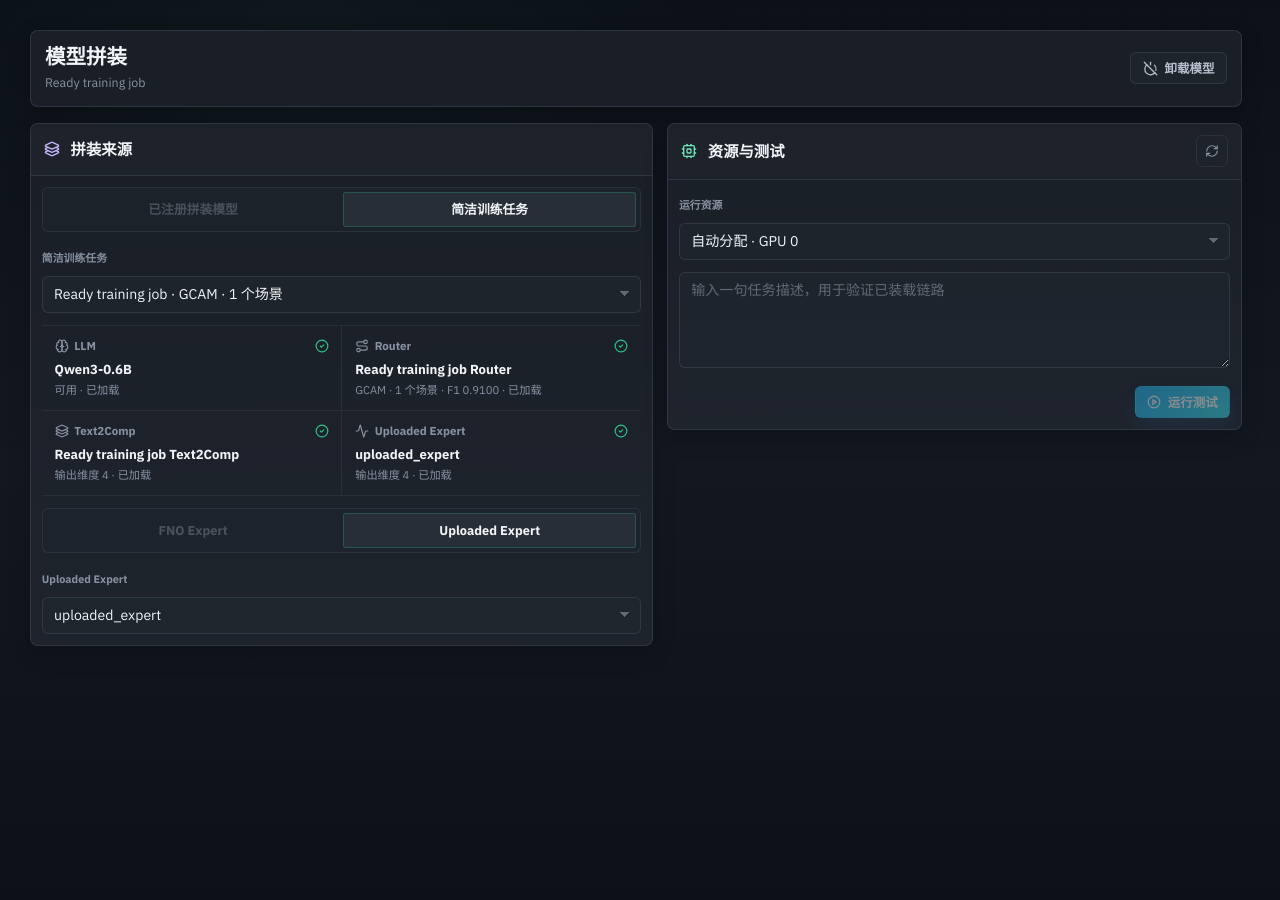
it: TrainingSimpleAssemblyPage › renders diff-sorp vector results as a conversational summary
The width and height of the screenshot is (1280, 900).
Expected: the dropdown labelled "简洁训练任务" is shown, x1=42 y1=276 x2=641 y2=313
In the text box: (955, 320) x1=679 y1=272 x2=1230 y2=368, type "请预测 diff-sorp 下一时间步。"
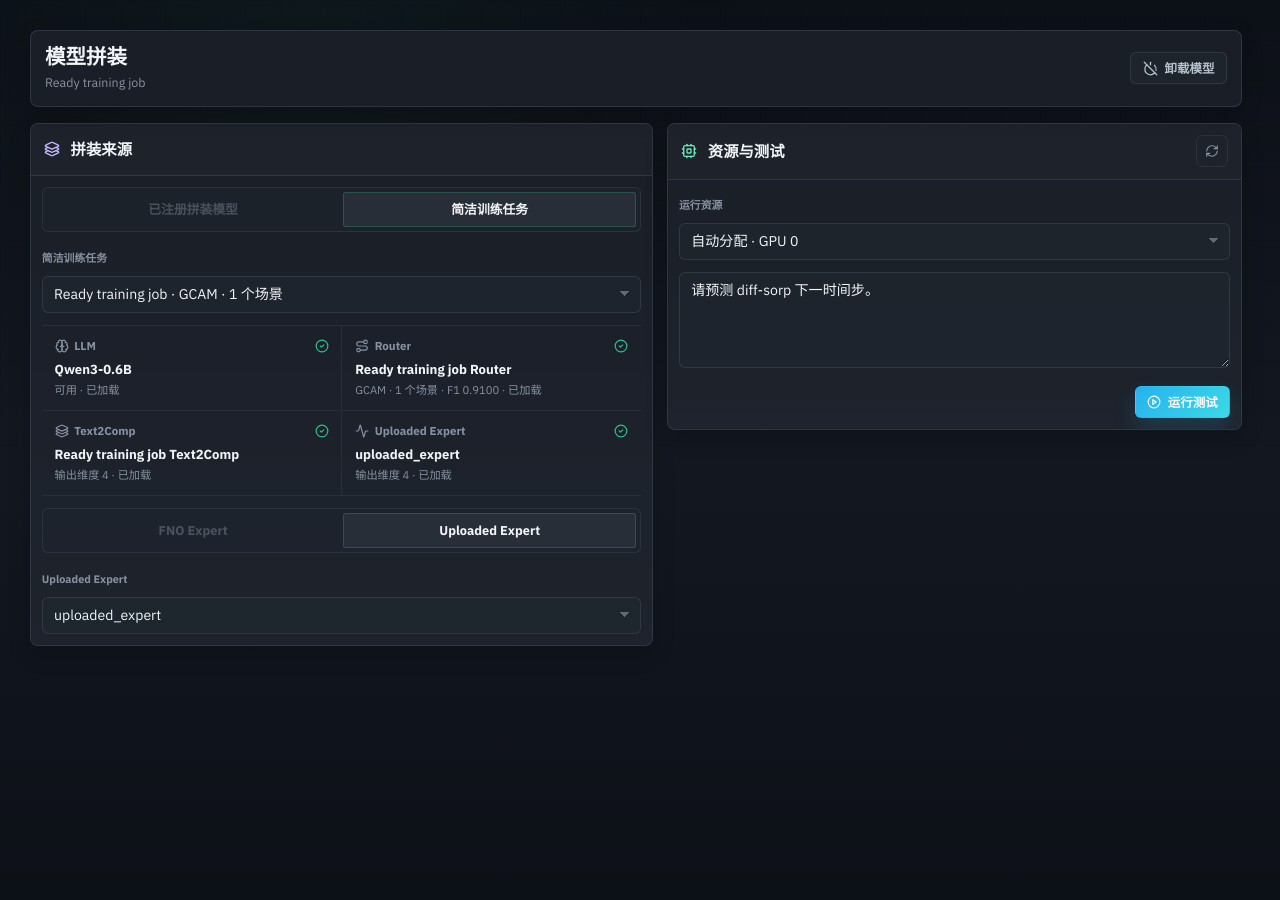
Click the button "运行测试": (1182, 402) x1=1135 y1=386 x2=1230 y2=418
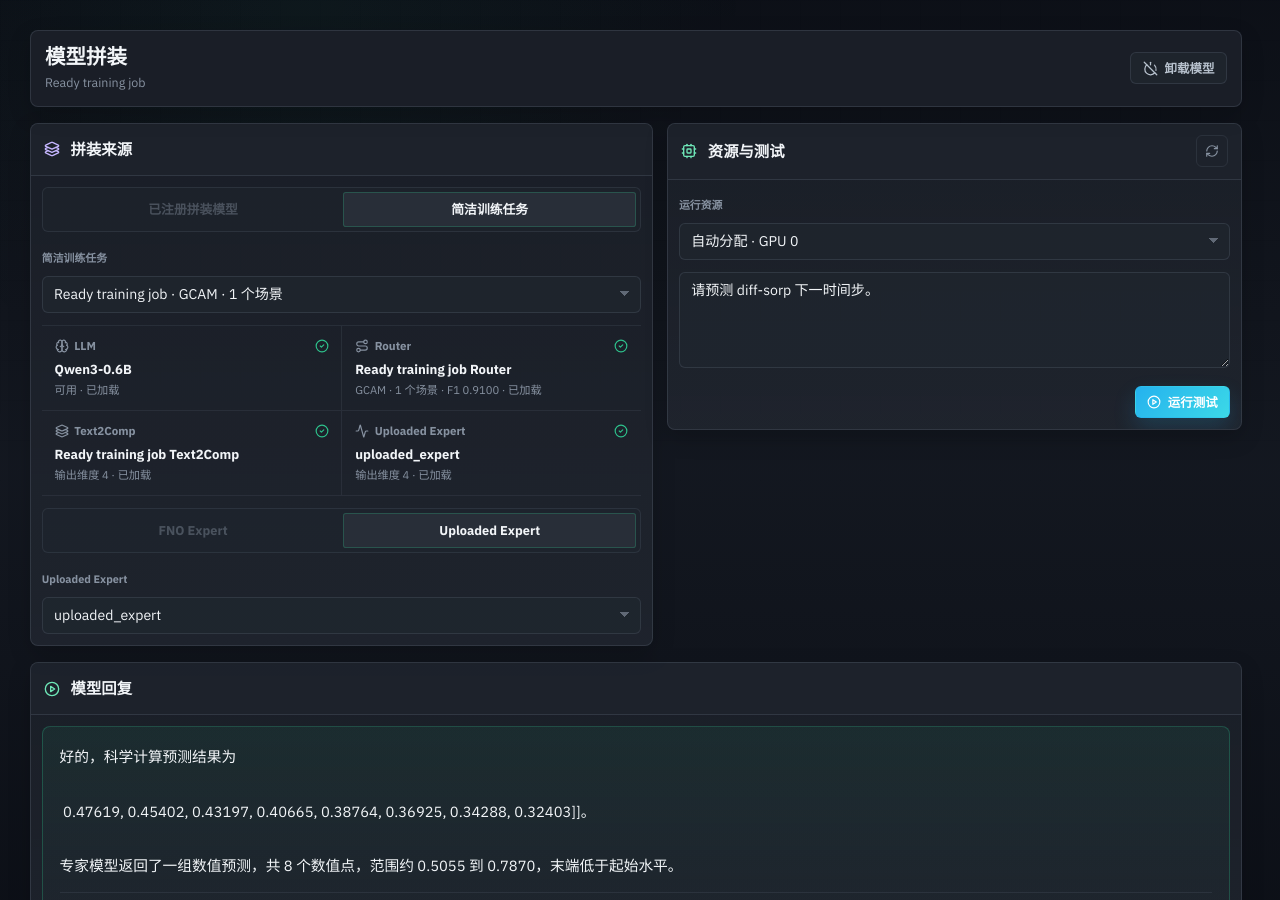
Expected: the text "专家模型返回了一组数值预测" is shown, x1=60 y1=747 x2=683 y2=875
